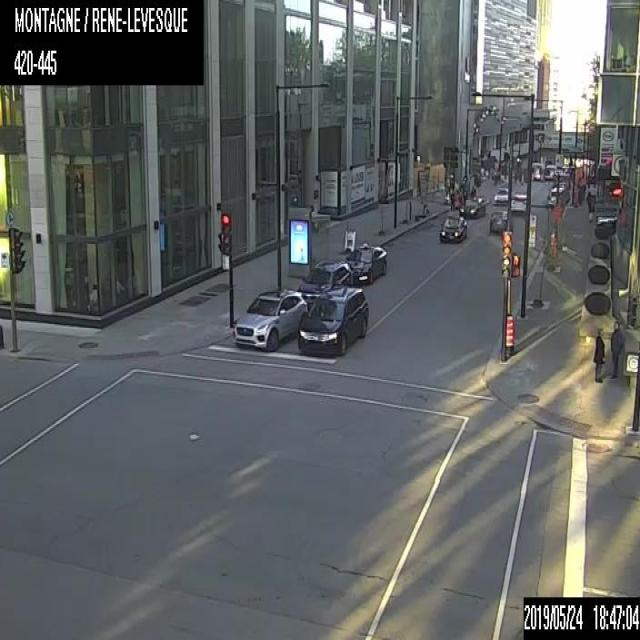bus: (531, 162, 543, 180), (544, 164, 554, 179)
construction: (504, 314, 514, 354)
pedestrian: (608, 320, 622, 381), (592, 328, 604, 381), (449, 190, 454, 210)
vehicle: (231, 288, 307, 354), (297, 287, 369, 354), (296, 258, 353, 310), (344, 241, 388, 283), (439, 214, 467, 243), (488, 208, 512, 234), (460, 196, 486, 217), (510, 189, 525, 212), (546, 188, 564, 205), (493, 185, 506, 206)
